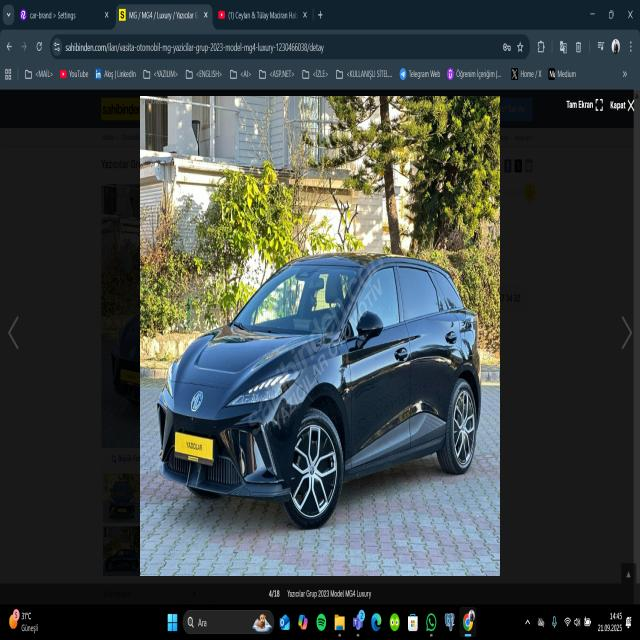mg: (185, 384, 210, 417)
